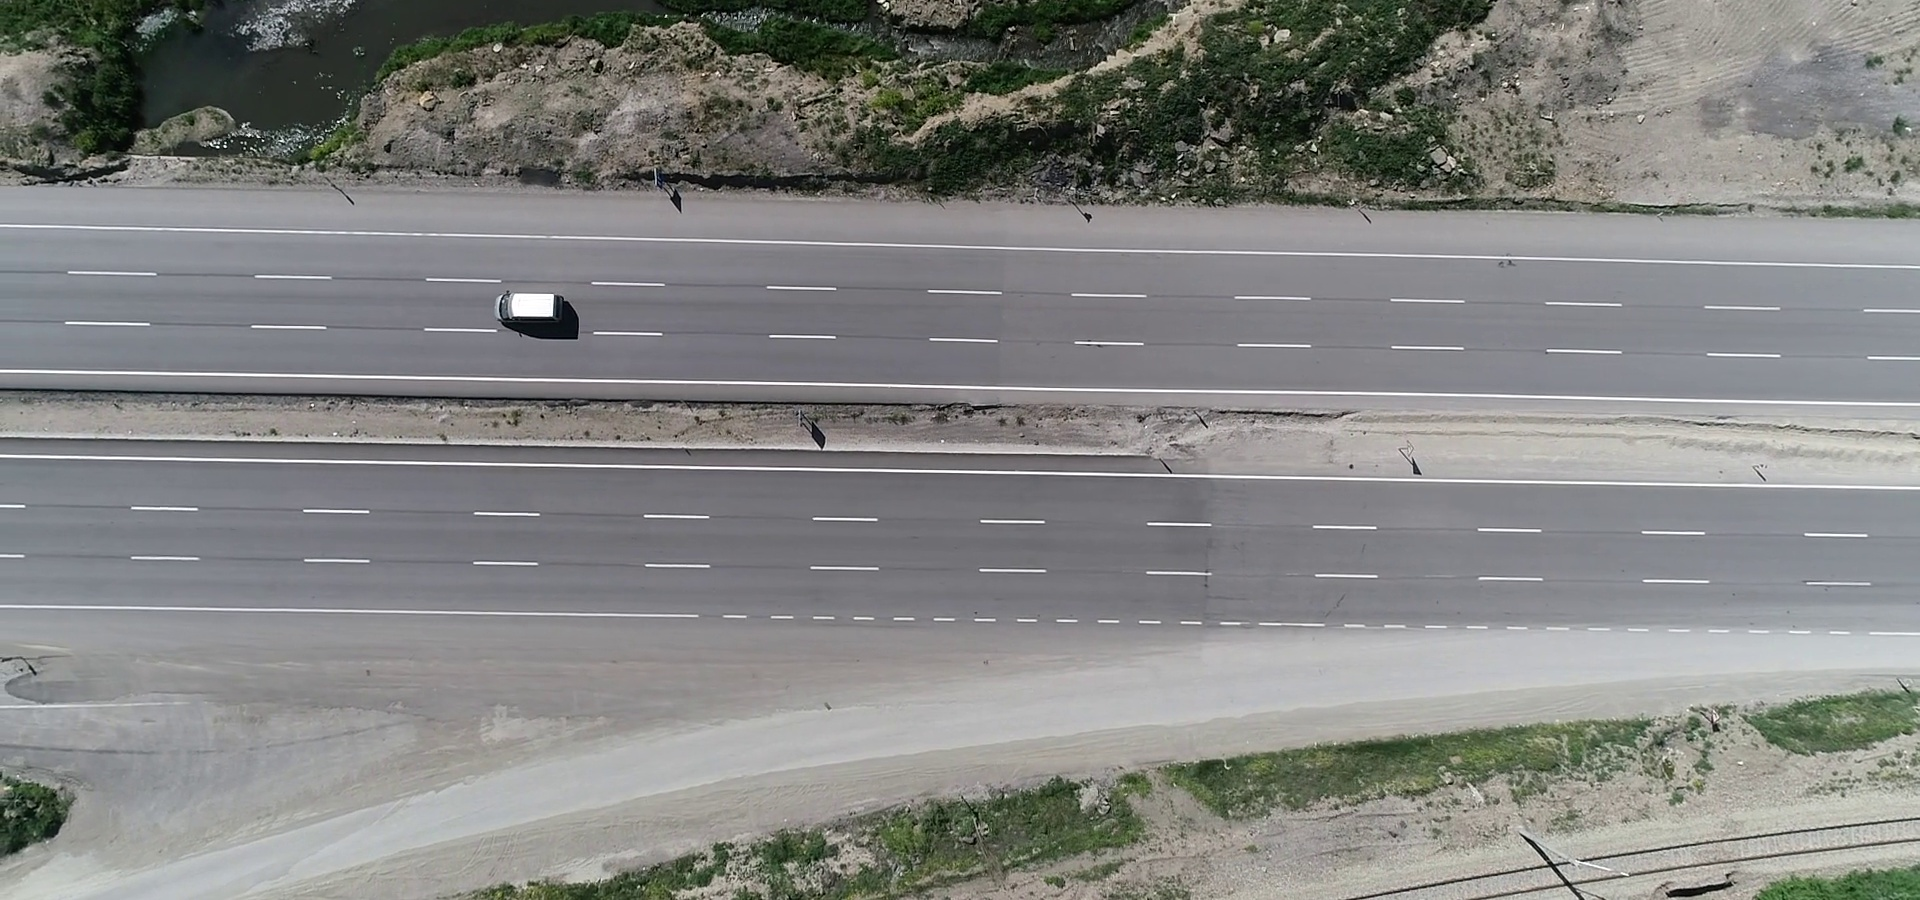arac: (491, 290, 567, 324)
